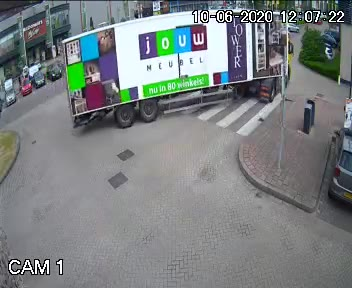car: (49, 7, 294, 124)
